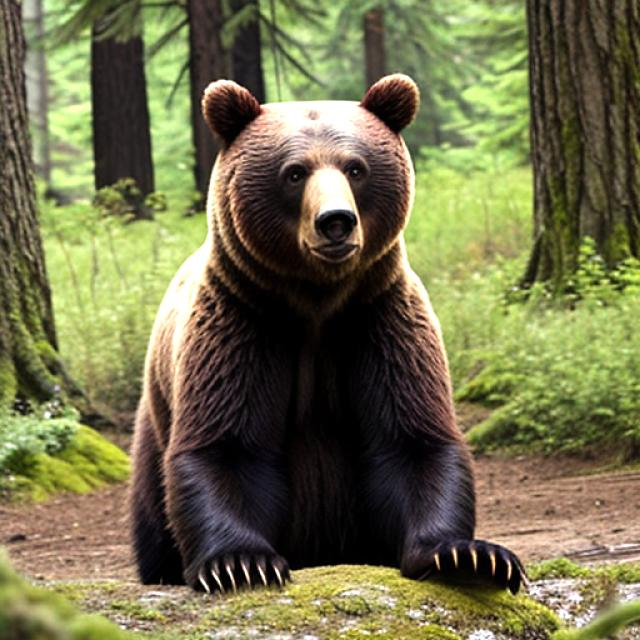bear: (178, 51, 463, 312)
